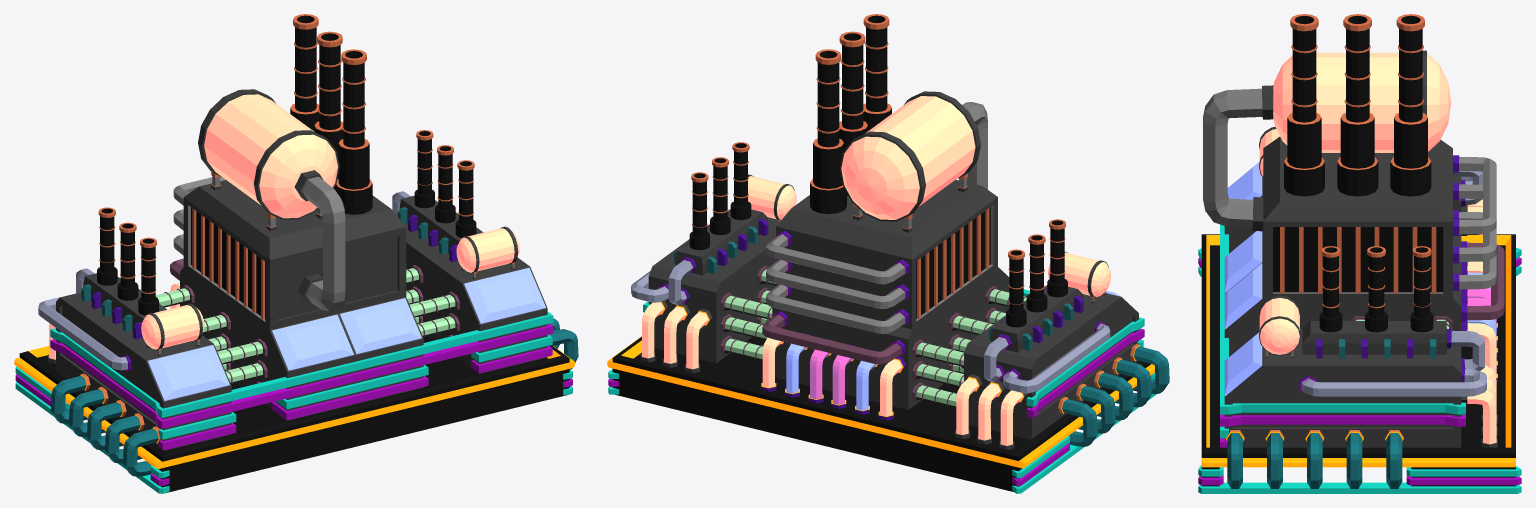
The model's file is AssemblerLOD.fbx.
3 renders of one model, left to right at view 1: azimuth 30°, elevation 25°; view 2: azimuth 150°, elevation 25°; view 3: azimuth 270°, elevation 25°, orthographic. The views are drawn at different scales.
Parts seen in each view (by area): view 1: Assembler_LOD0; view 2: Assembler_LOD0; view 3: Assembler_LOD0.
Boxes of the visible parts, bbox=[...] form: Assembler_LOD0: bbox=[14, 14, 578, 493]; Assembler_LOD0: bbox=[607, 14, 1169, 493]; Assembler_LOD0: bbox=[1198, 14, 1521, 493].
Size of what is drawn, in the model's own units: 8748 by 6415 by 4908.
